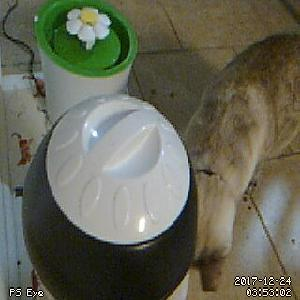cat: (180, 30, 300, 295)
fountain: (32, 1, 139, 77)
